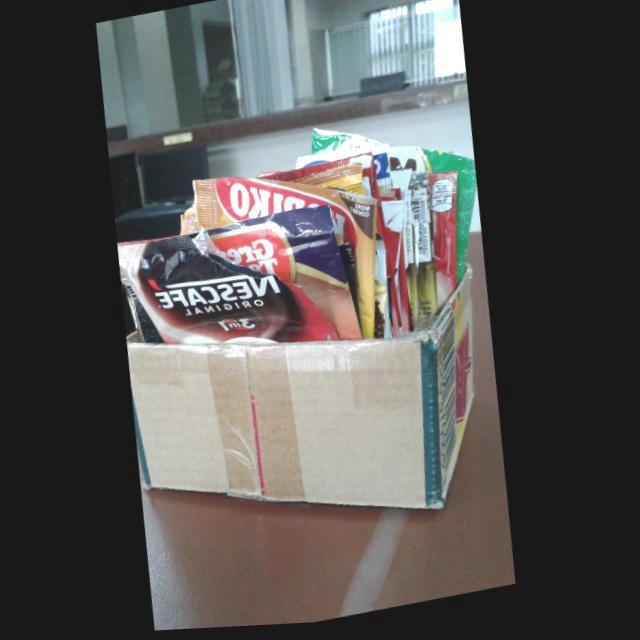cardboard: (130, 272, 478, 513)
plastic_sachet: (261, 136, 479, 342), (121, 211, 365, 347), (195, 184, 383, 343)
